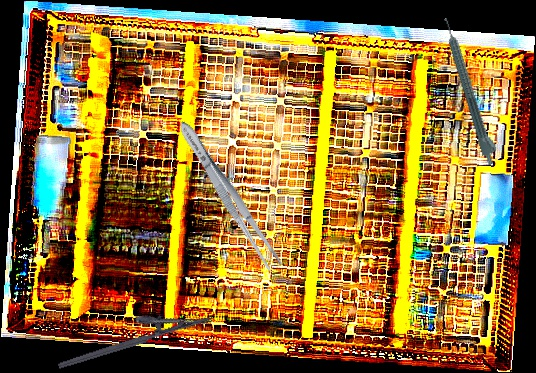Dressing Forceps: (172, 116, 286, 275)
Handpiece: (441, 14, 502, 167)
Needle Holder: (51, 295, 214, 370)
